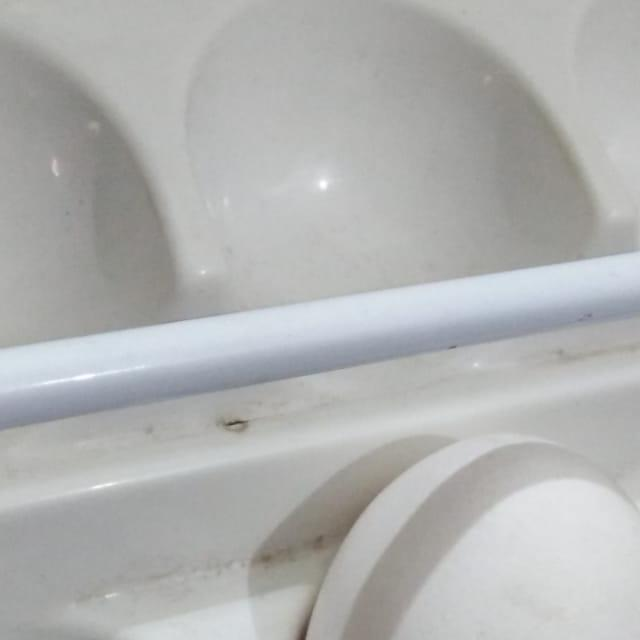egg: (261, 434, 640, 640)
